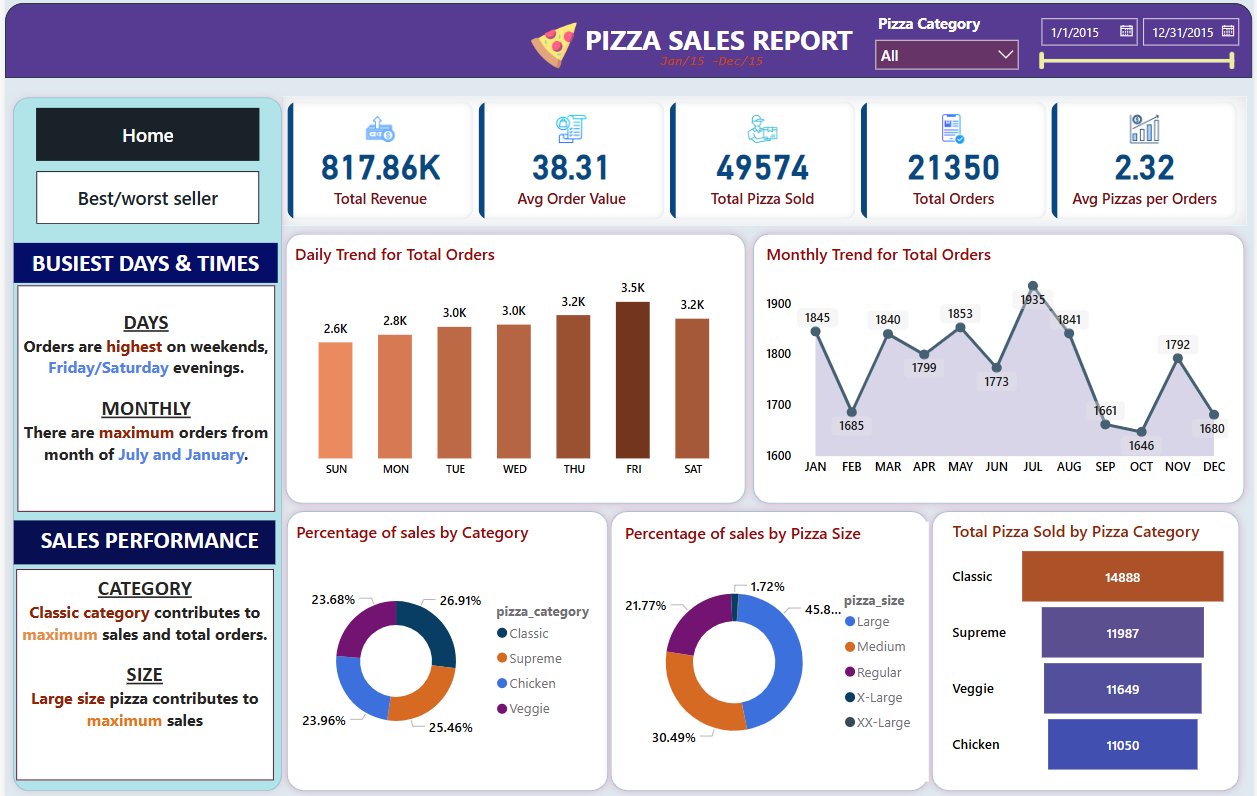

This screenshot's page, from the dashboard's own definition file:
{"tool":"powerbi","page":{"name":"Home","canvas":[1250,820],"ordinal":0},"visuals":[{"type":"cardVisual","fields":{"Data":["pizza_sales.Total Revenue","pizza_sales.Avg Order Value","pizza_sales.Total Pizza Sold","pizza_sales.Total Orders","pizza_sales.Avg Pizzas per Orders"]},"box":[277.5,102.5,963.8,128.8],"z":0},{"type":"shape","box":[0,8.8,1247.5,75],"z":1000},{"type":"textbox","box":[543.8,22.5,340,52.5],"z":2000},{"type":"textbox","box":[650,51.2,153.8,43.8],"z":3000},{"type":"image","box":[510,23.3,78.3,55],"z":4000},{"type":"shape","box":[272.5,231.2,476.2,286.2],"z":5000},{"type":"columnChart","title":"Daily Trend for Total Orders","fields":{"Category":["pizza_sales.Order day"],"Y":["pizza_sales.Total Orders"]},"box":[285,248.8,450,243.8],"z":6000},{"type":"shape","box":[740,231.2,507.5,286.2],"z":7000},{"type":"areaChart","title":"Monthly Trend for Total Orders","fields":{"Y":["pizza_sales.Total Orders"],"Category":["pizza_sales.Order Month"]},"box":[756.2,248.8,472.5,242.5],"z":8000},{"type":"shape","box":[273.8,508.8,337.5,296.2],"z":9000},{"type":"shape","box":[918.8,508.8,323.8,296.2],"z":10000},{"type":"shape","box":[597.5,508.8,333.8,296.2],"z":11000},{"type":"donutChart","title":"Percentage of  sales by Category","fields":{"Category":["pizza_sales.pizza_category"],"Y":["pizza_sales.Total Revenue"]},"box":[286.2,526.2,310,260],"z":12000},{"type":"donutChart","title":"Percentage of  sales by Pizza Size","fields":{"Category":["pizza_sales.pizza_size"],"Y":["pizza_sales.Total Revenue"]},"box":[615,527.5,308.8,260],"z":13000},{"type":"funnel","title":"Total Pizza Sold by Pizza Category","fields":{"Category":["pizza_sales.pizza_category"],"Y":["pizza_sales.Total Pizza Sold"]},"box":[942.5,525,286.2,261.2],"z":14000},{"type":"shape","box":[0,95,285,710],"z":15000},{"type":"textbox","box":[8.8,248.8,263.8,40],"z":16000},{"type":"textbox","box":[12.5,291.2,257.5,226.2],"z":17000},{"type":"textbox","box":[11.2,575,257.5,211.2],"z":18000},{"type":"textbox","box":[8.8,526.2,261.2,43.8],"z":19000},{"type":"slicer","fields":{"Values":["pizza_sales.pizza_category"]},"box":[860,13.8,163.8,65],"z":20000},{"type":"slicer","fields":{"Values":["pizza_sales.order_date"]},"box":[1023.8,13.8,218.8,61.2],"z":21000},{"type":"pageNavigator","box":[31.2,113.8,223.8,117.5],"z":21001}]}

Visuals, with their boxes on the page's 1250x820 design canvas (x1, y1, x2, y2). These are canvas units, not pixel positions in the 1257x796 screenshot, which may show the page scaled, cropped or inside an application window:
cardVisual - pizza_sales.Total Revenue x pizza_sales.Avg Order Value: 278,102,1241,231
shape: 0,9,1248,84
textbox: 544,22,884,75
textbox: 650,51,804,95
image: 510,23,588,78
shape: 272,231,749,517
"Daily Trend for Total Orders" columnChart: 285,249,735,493
shape: 740,231,1248,517
"Monthly Trend for Total Orders" areaChart: 756,249,1229,491
shape: 274,509,611,805
shape: 919,509,1243,805
shape: 598,509,931,805
"Percentage of  sales by Category" donutChart: 286,526,596,786
"Percentage of  sales by Pizza Size" donutChart: 615,528,924,788
"Total Pizza Sold by Pizza Category" funnel: 942,525,1229,786
shape: 0,95,285,805
textbox: 9,249,273,289
textbox: 12,291,270,517
textbox: 11,575,269,786
textbox: 9,526,270,570
slicer - pizza_sales.pizza_category: 860,14,1024,79
slicer - pizza_sales.order_date: 1024,14,1243,75
pageNavigator: 31,114,255,231
